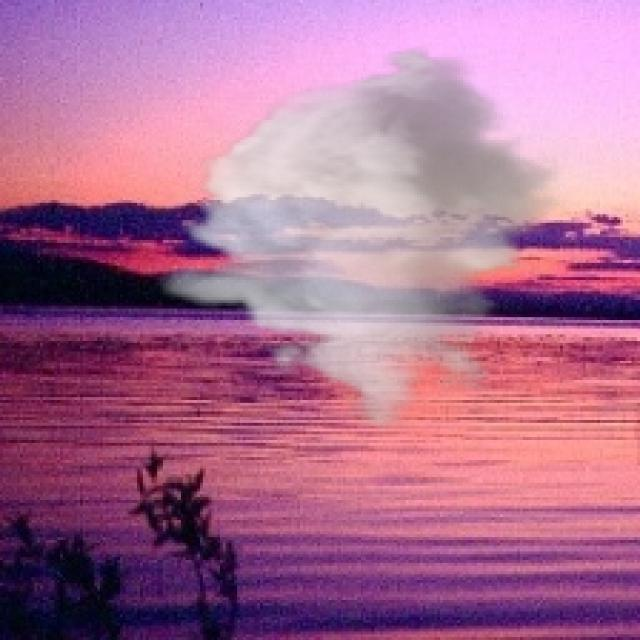smoke: (154, 46, 566, 431)
